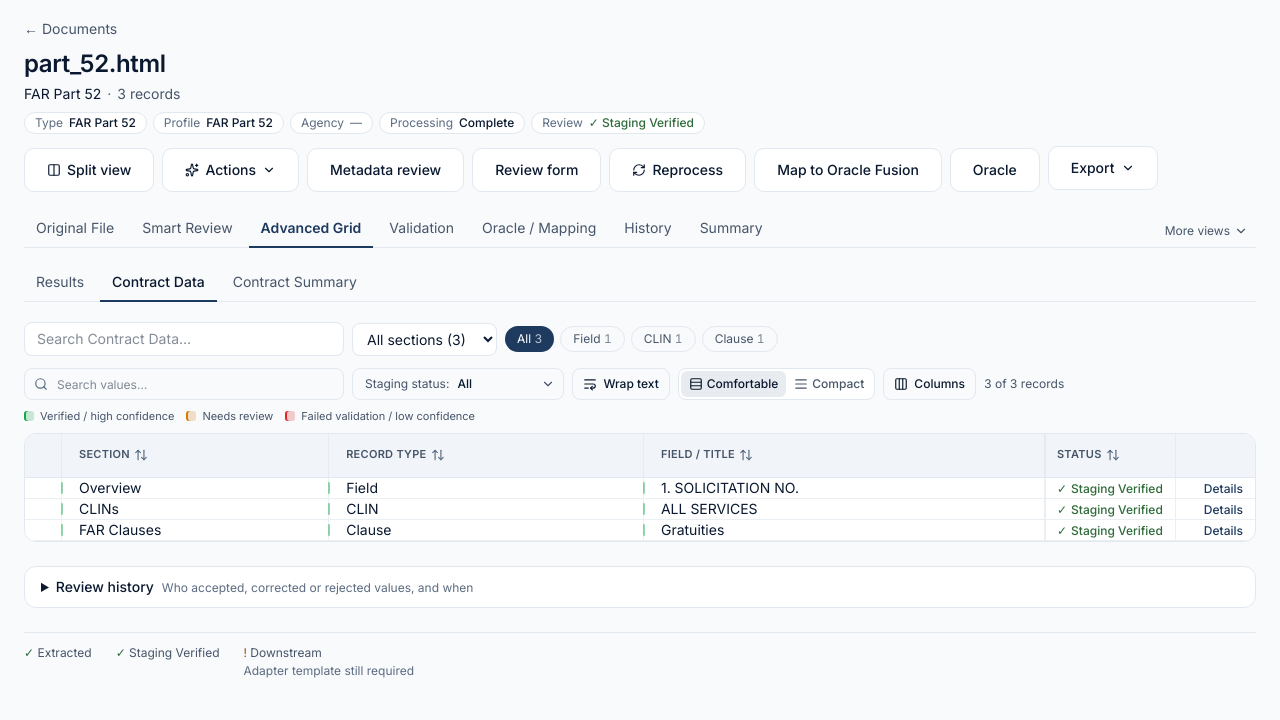
Scenario: DocumentWorkspace for a contract › filters Contract Data by section
This screenshot has width=1280, height=720.
Select "FAR Clauses (1)" in the dropdown named "Filter by section". click: (424, 339)
box: [352,322,497,356]
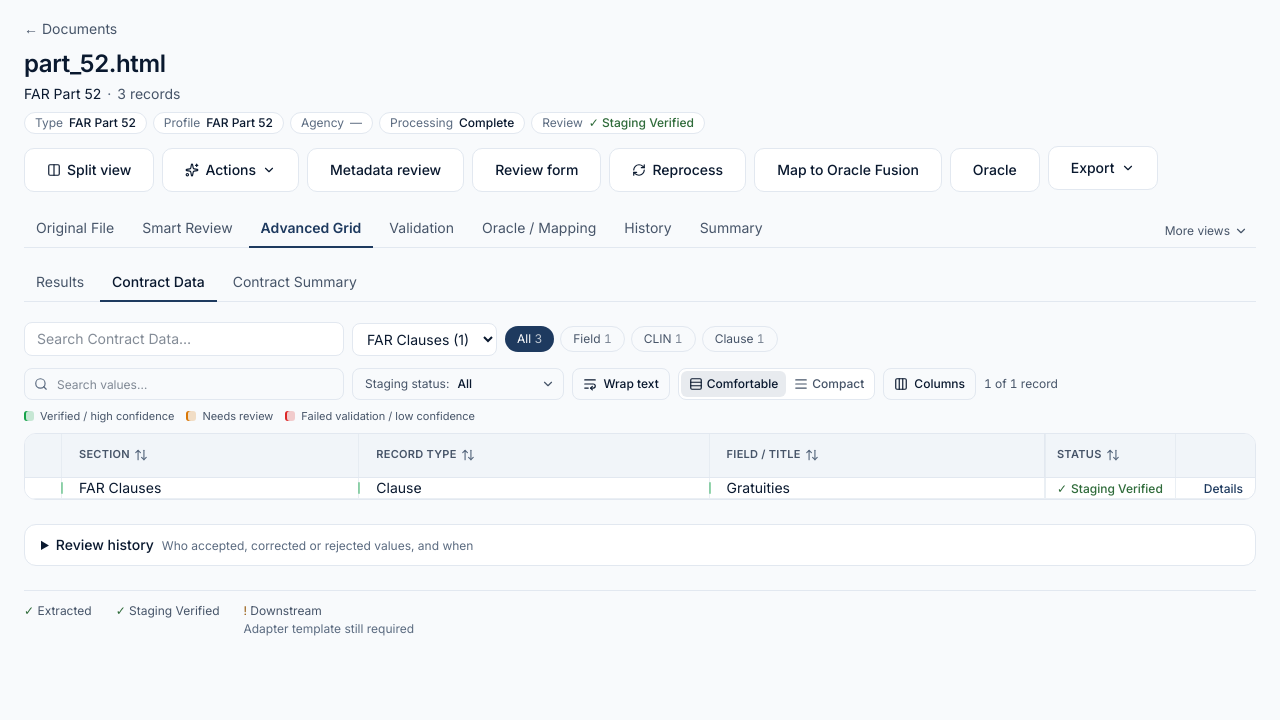
Expected: the text "Gratuities" is shown, [727,478,790,496]
Now the text "ALL SERVICES" is gone
